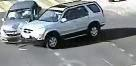car-accident: (3, 2, 107, 50)
